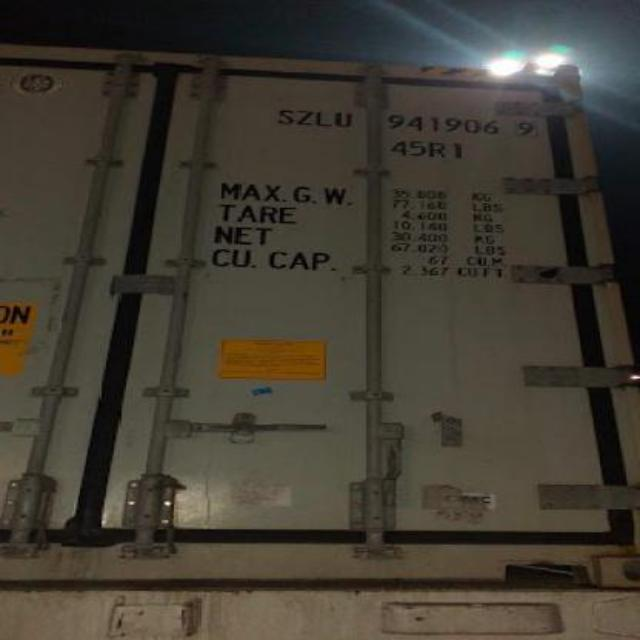0: (461, 108, 482, 140)
1: (424, 108, 444, 136)
4: (404, 105, 424, 137)
6: (480, 108, 504, 142)
9: (512, 117, 548, 141), (384, 106, 406, 136), (444, 109, 460, 139)
L: (312, 104, 334, 132)
S: (276, 103, 296, 127)
U: (334, 105, 358, 134)
Z: (296, 104, 316, 130)
